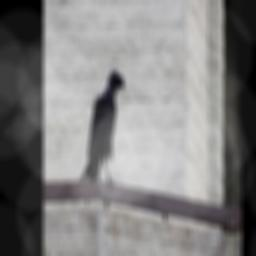Crow: (79, 66, 125, 206)
